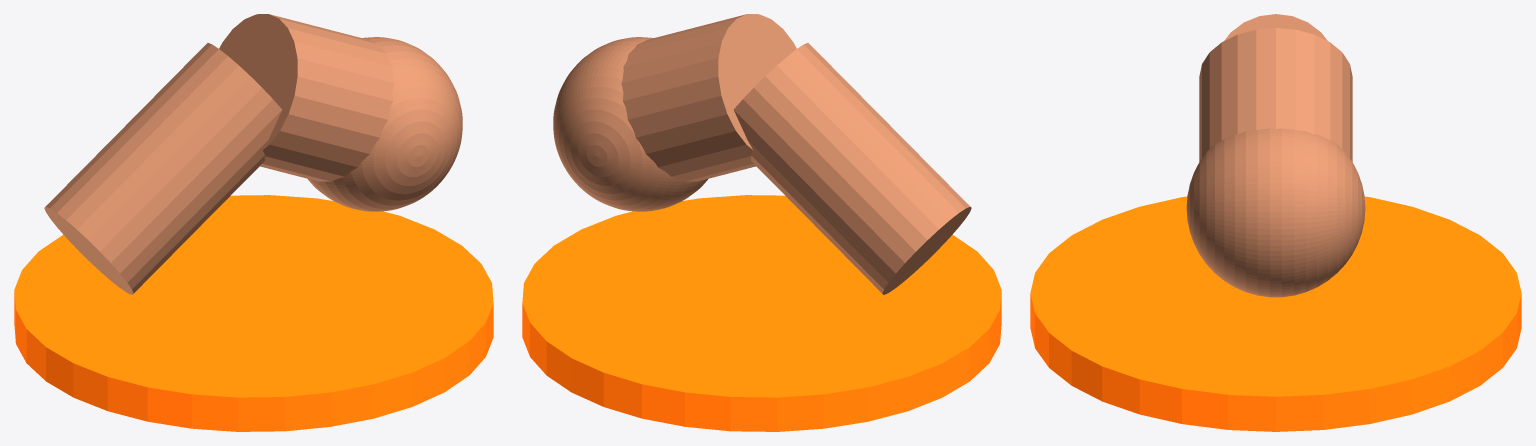
File: fitness_flexed_arm.dae
3 views of the same model, side by side, from view 1: azimuth 30°, elevation 25°; view 2: azimuth 150°, elevation 25°; view 3: azimuth 270°, elevation 25° (orthographic). The views are drawn at different scales.
Parts seen in each view (by area): view 1: 02_19_Popular_Fitness_Flexed_Arm_ROOT_base, 02_19_Popular_Fitness_Flexed_Arm_part_01, 02_19_Popular_Fitness_Flexed_Arm_part_02, 02_19_Popular_Fitness_Flexed_Arm_part_03; view 2: 02_19_Popular_Fitness_Flexed_Arm_ROOT_base, 02_19_Popular_Fitness_Flexed_Arm_part_01, 02_19_Popular_Fitness_Flexed_Arm_part_02, 02_19_Popular_Fitness_Flexed_Arm_part_03; view 3: 02_19_Popular_Fitness_Flexed_Arm_ROOT_base, 02_19_Popular_Fitness_Flexed_Arm_part_03, 02_19_Popular_Fitness_Flexed_Arm_part_02, 02_19_Popular_Fitness_Flexed_Arm_part_01.
Part boxes in pixels (bbox=[...]): 02_19_Popular_Fitness_Flexed_Arm_ROOT_base: bbox=[14, 195, 493, 431]; 02_19_Popular_Fitness_Flexed_Arm_part_01: bbox=[44, 43, 282, 294]; 02_19_Popular_Fitness_Flexed_Arm_part_02: bbox=[219, 14, 394, 181]; 02_19_Popular_Fitness_Flexed_Arm_part_03: bbox=[307, 37, 462, 211]; 02_19_Popular_Fitness_Flexed_Arm_ROOT_base: bbox=[522, 195, 1001, 431]; 02_19_Popular_Fitness_Flexed_Arm_part_01: bbox=[733, 43, 971, 294]; 02_19_Popular_Fitness_Flexed_Arm_part_02: bbox=[621, 14, 796, 181]; 02_19_Popular_Fitness_Flexed_Arm_part_03: bbox=[553, 37, 708, 211]; 02_19_Popular_Fitness_Flexed_Arm_ROOT_base: bbox=[1030, 196, 1521, 431]; 02_19_Popular_Fitness_Flexed_Arm_part_03: bbox=[1186, 128, 1365, 297]; 02_19_Popular_Fitness_Flexed_Arm_part_02: bbox=[1199, 28, 1352, 161]; 02_19_Popular_Fitness_Flexed_Arm_part_01: bbox=[1224, 14, 1327, 40].
Size of the model in its own units: 0.76 by 0.5339 by 0.76.
